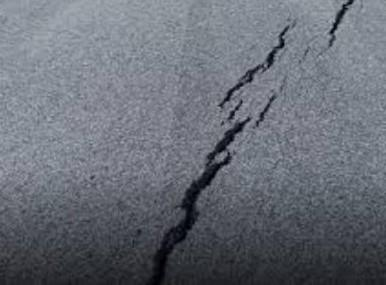crack: (146, 106, 249, 285), (216, 20, 294, 133), (326, 0, 355, 53)
